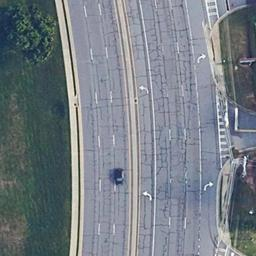Car: (112, 166, 126, 183)
Crosswalk: (219, 96, 229, 170), (207, 1, 221, 33), (216, 236, 225, 256)
Double Solid Yellow Line: (237, 129, 256, 134)
Left Turn Arrow: (138, 83, 150, 95), (142, 189, 153, 200)
Right Turn Arrow: (202, 179, 215, 193), (196, 53, 205, 64)
Solid White Line: (138, 1, 156, 255), (184, 1, 204, 210)
Stopline: (234, 106, 238, 130)
White Dashed Line: (170, 1, 189, 229), (84, 2, 101, 237), (101, 2, 117, 238), (155, 1, 171, 230), (197, 211, 202, 256)
